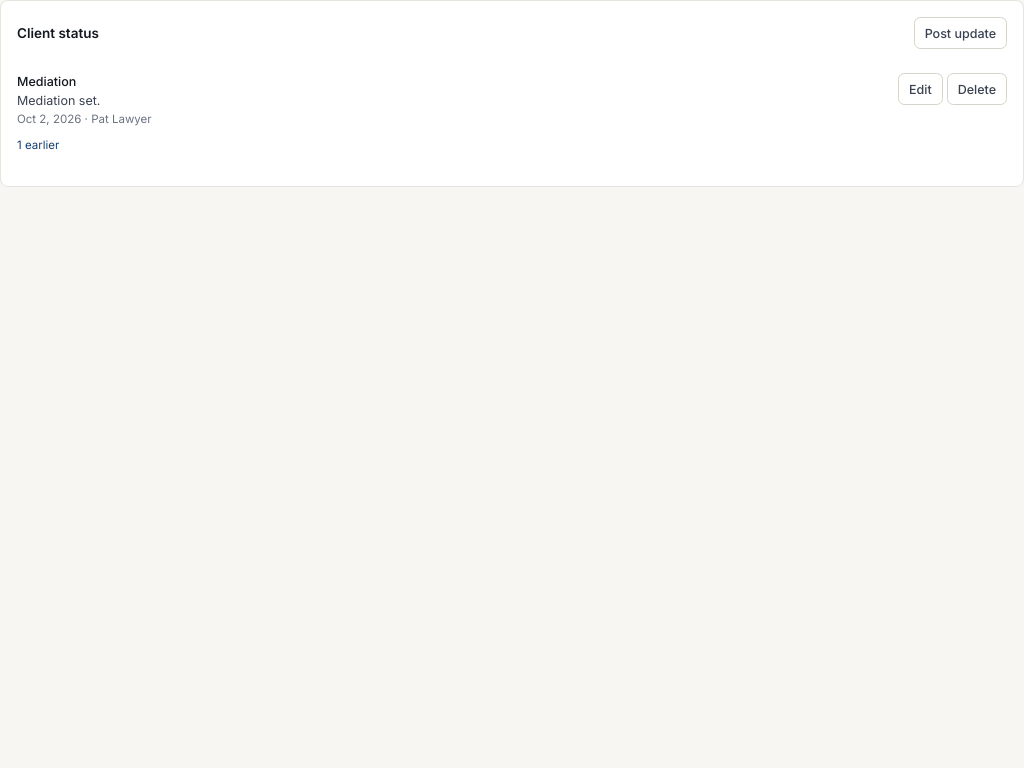
Test: ClientStatusCard › the warning notice clears when an update is deleted
Click the button "Post update".
click(960, 33)  # box [914, 17, 1007, 49]
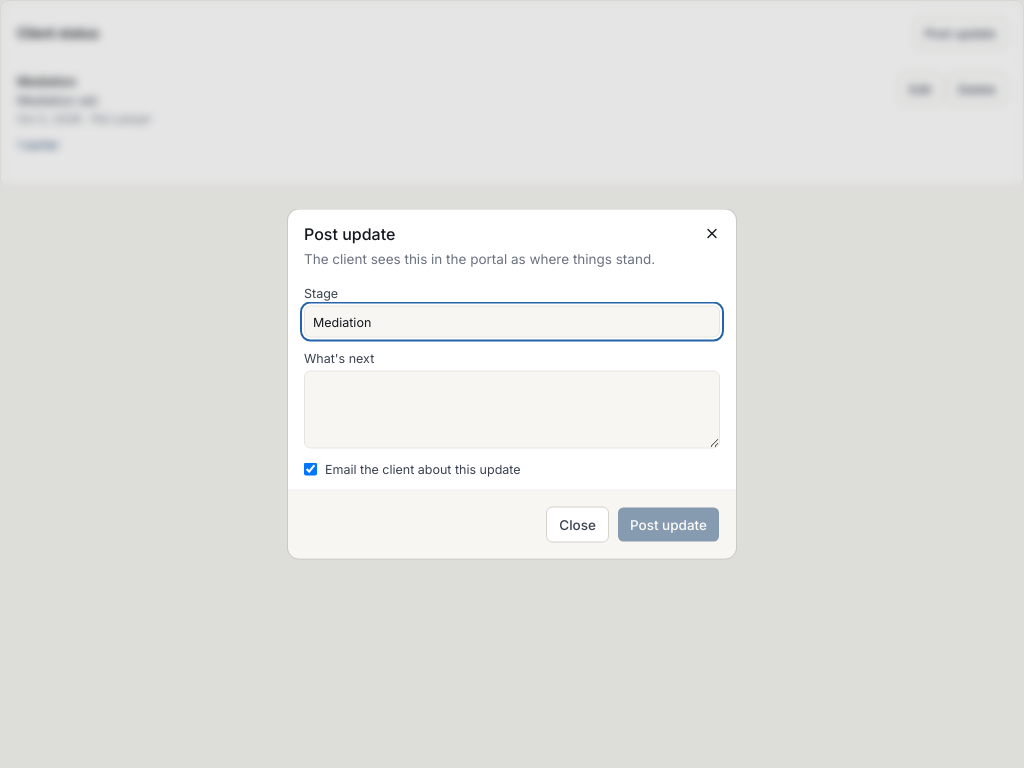
Type "Hi" into the text box labelled "What's next".
click(512, 410); type("Hi")  # box [304, 370, 720, 448]
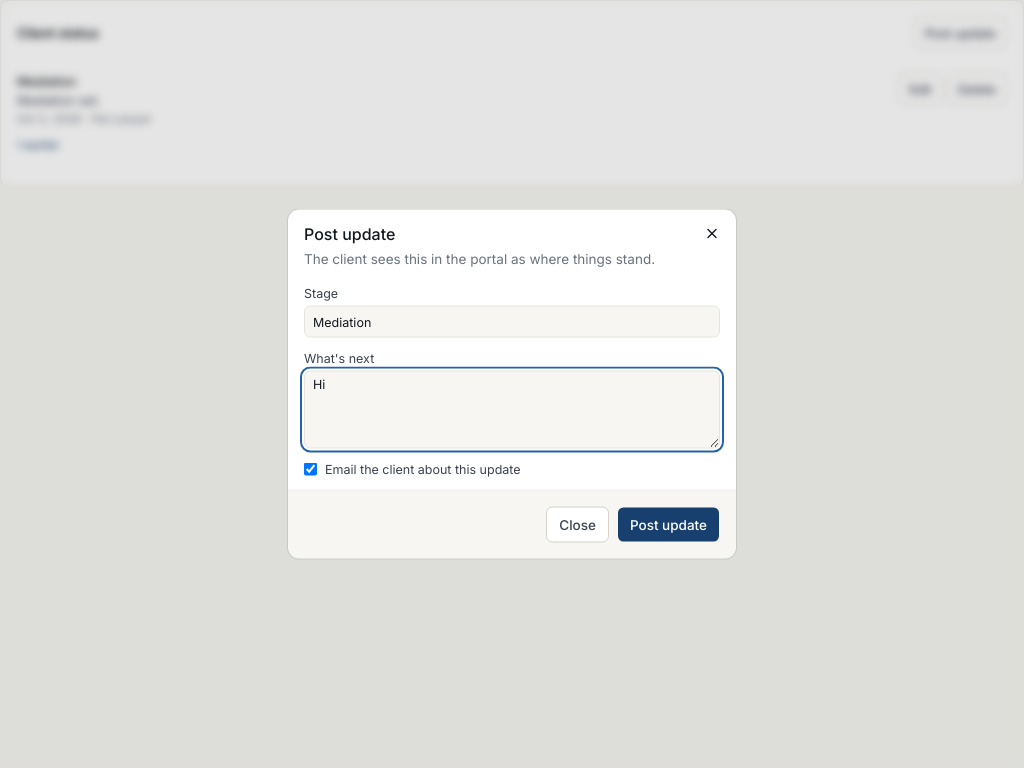
Click the button "Post update".
click(668, 524)  # box [617, 506, 720, 542]
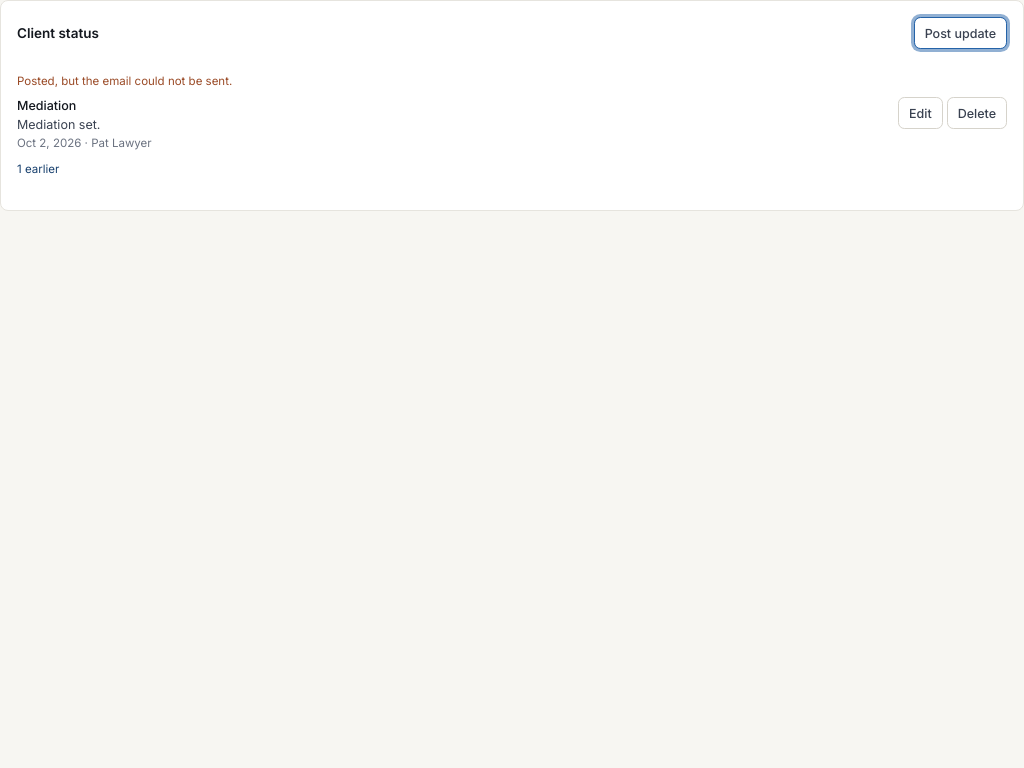
Expected: the text "Posted, but the email could not be sent." is shown, [17, 74, 232, 88]
Click the button "Delete".
click(977, 113)  # box [947, 97, 1007, 129]
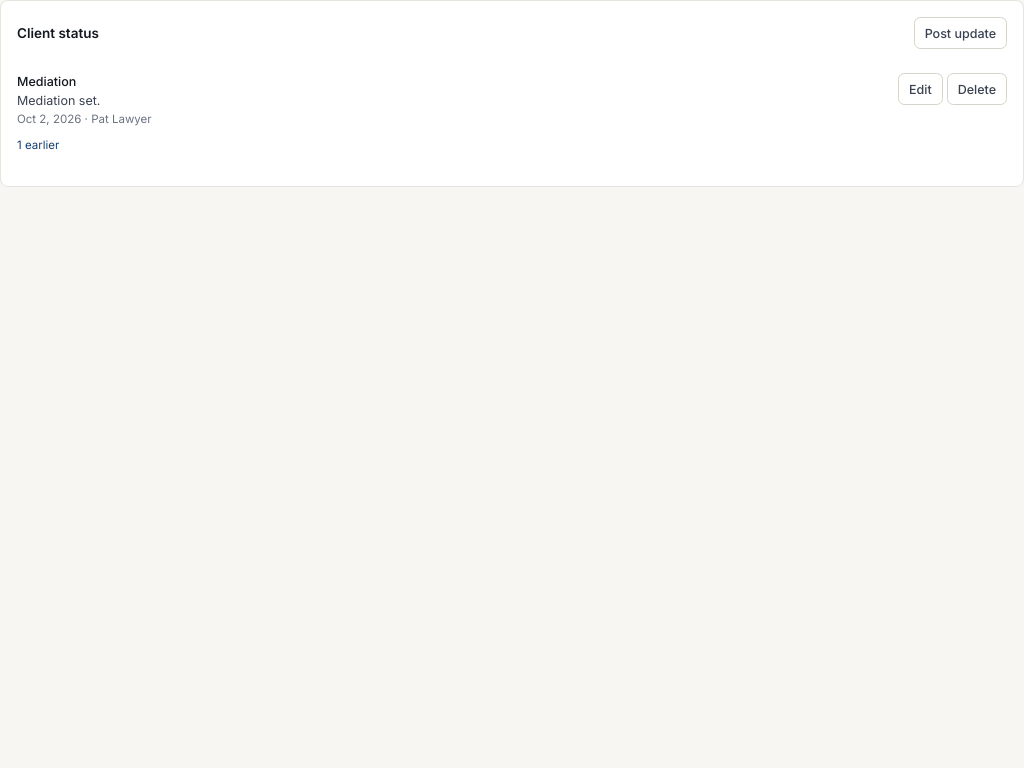
Expected: the text "Posted, but the email could not be sent." is gone
